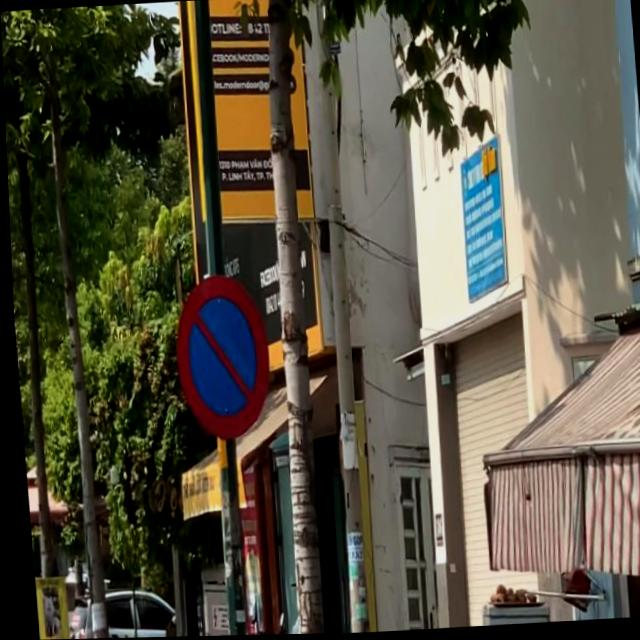Cam do xe: (167, 272, 272, 443)
